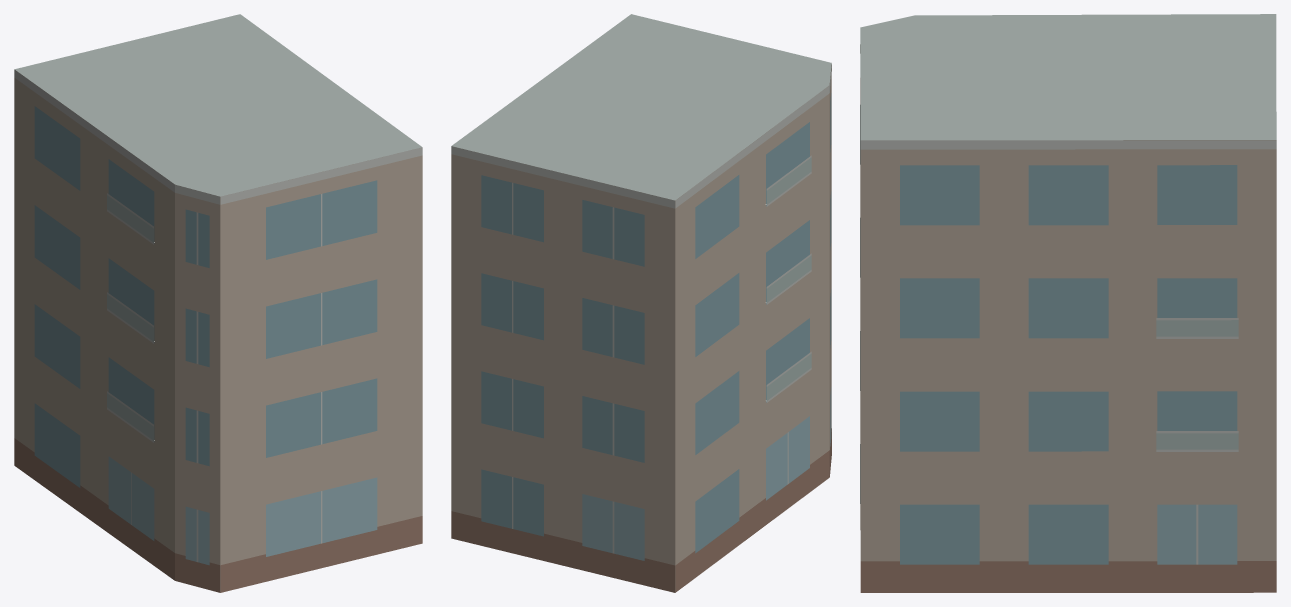
Rendered from survey-upis-33017868.glb.
3 views of the same model, side by side, from view 1: azimuth 30°, elevation 25°; view 2: azimuth 150°, elevation 25°; view 3: azimuth 270°, elevation 25° (orthographic). The views are drawn at different scales.
Parts seen in each view (by area): view 1: survey-upis-33017868.tmp; view 2: survey-upis-33017868.tmp; view 3: survey-upis-33017868.tmp.
Part boxes in pixels (box(x1,y1,x2,y2)): survey-upis-33017868.tmp: box(14, 14, 422, 592); survey-upis-33017868.tmp: box(451, 14, 831, 592); survey-upis-33017868.tmp: box(860, 14, 1276, 592).
Bounding box in the file's own units: 7.09 × 11.8 × 9.85.
